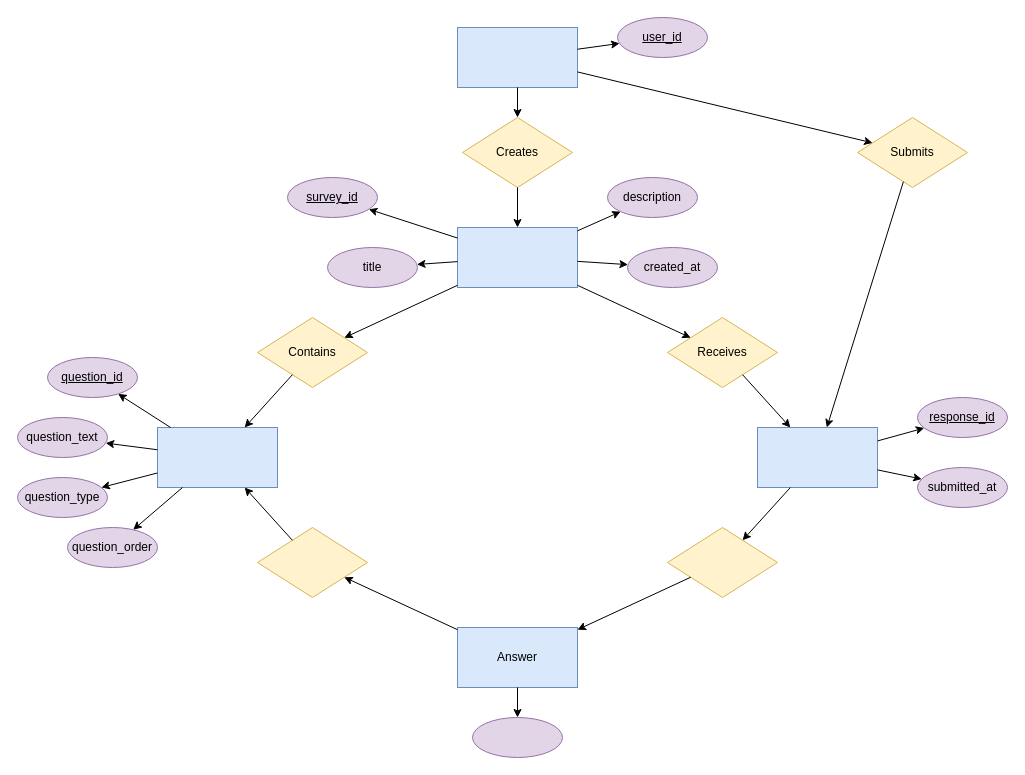
The diagram is 1025 pixels wide and 775 high, and some of its shapes have lost their labels. Here are the shapes that lost their labels. From the top down, the centre of each, then its label:
the point at 517,57: User / Creator
the point at 517,257: Survey
the point at 217,457: Question
the point at 817,457: Response
the point at 312,562: For Question
the point at 722,562: Includes
the point at 517,737: answer_text
